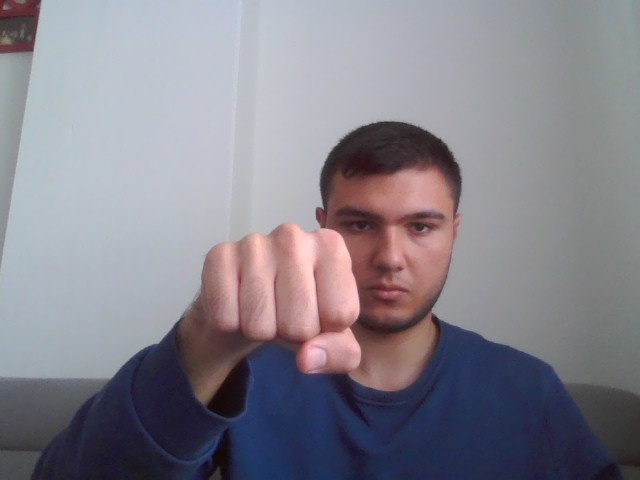yes: (192, 226, 367, 377)
